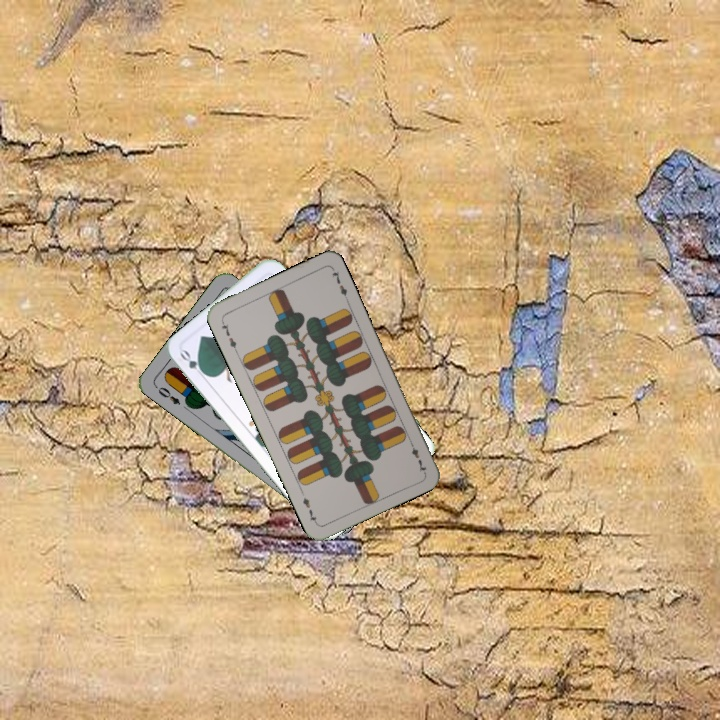E7: (405, 436, 429, 475), (217, 316, 240, 354)
EO: (151, 382, 183, 407)
GO: (176, 346, 210, 381)
